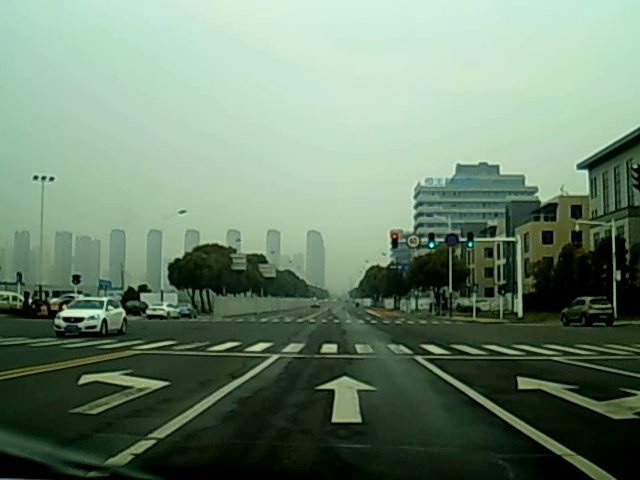Traffic_Light_go: (466, 233, 474, 252), (428, 234, 435, 250)
Traffic_Light_stop: (391, 234, 399, 249)
